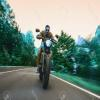motorcycles: (36, 35, 54, 85)
